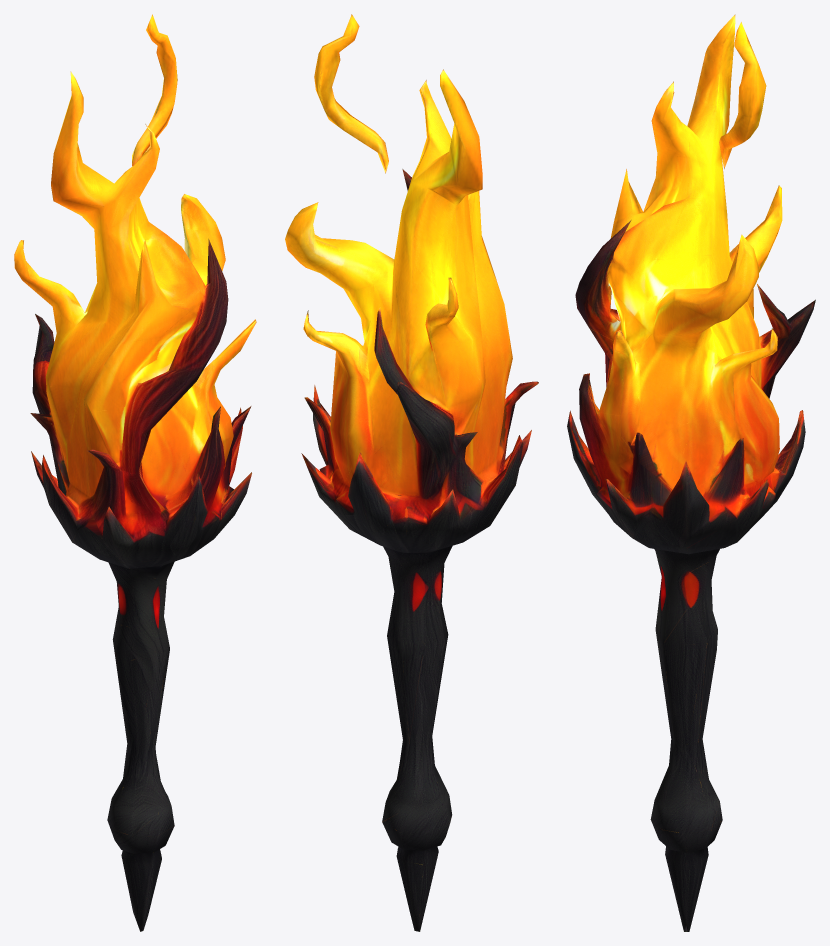
File: prop-torch-glow.glb
3 renders of one model, left to right at view 1: azimuth 30°, elevation 25°; view 2: azimuth 150°, elevation 25°; view 3: azimuth 270°, elevation 25°, orthographic. The views are drawn at different scales.
Size of the model in its own units: 0.4723 by 2 by 0.4851.
Materials: 1 (1 with a texture image).
